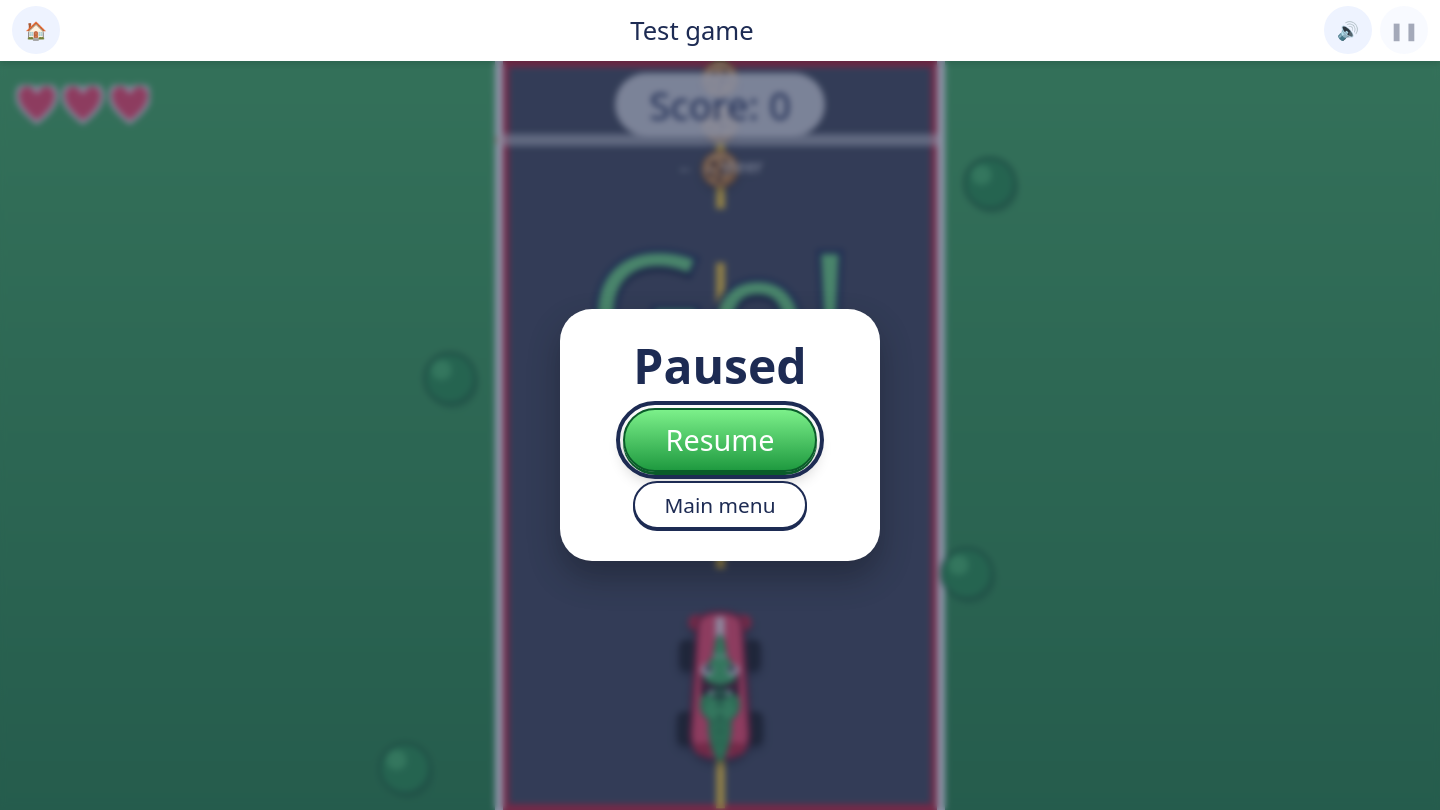
Scenario: RaceScreen › pauses with Escape, freezing the race, and resumes with the Resume button
This screenshot has width=1440, height=810.
Step 1. Click the button "Resume" → coordinates (720, 440), box [623,408,817,472]
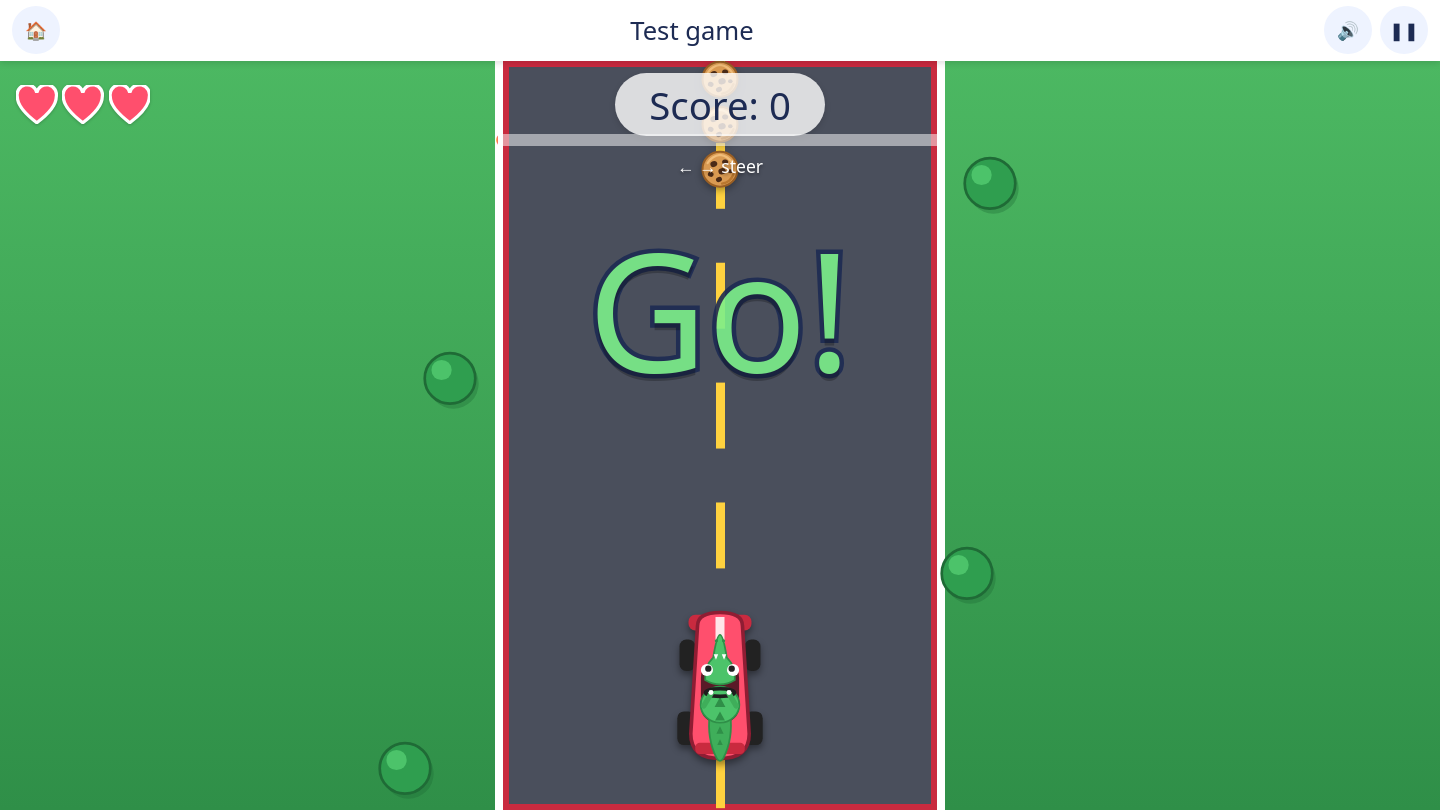
expect the dialog is gone: met
